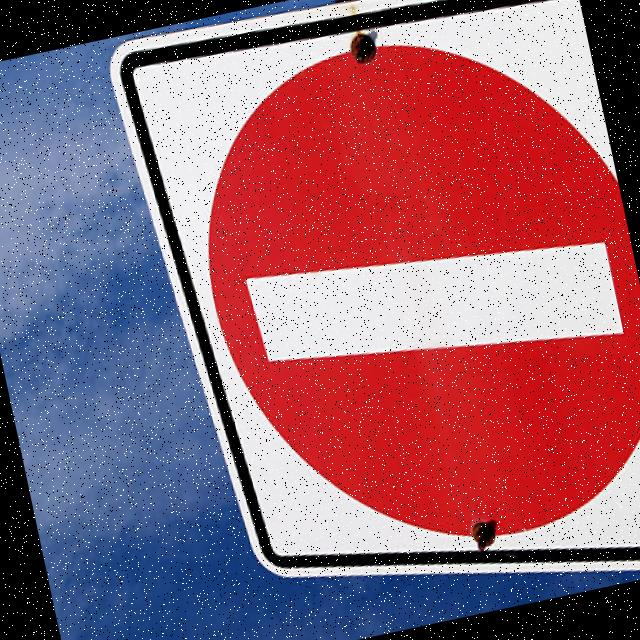do_not_enter: (155, 0, 640, 589)
